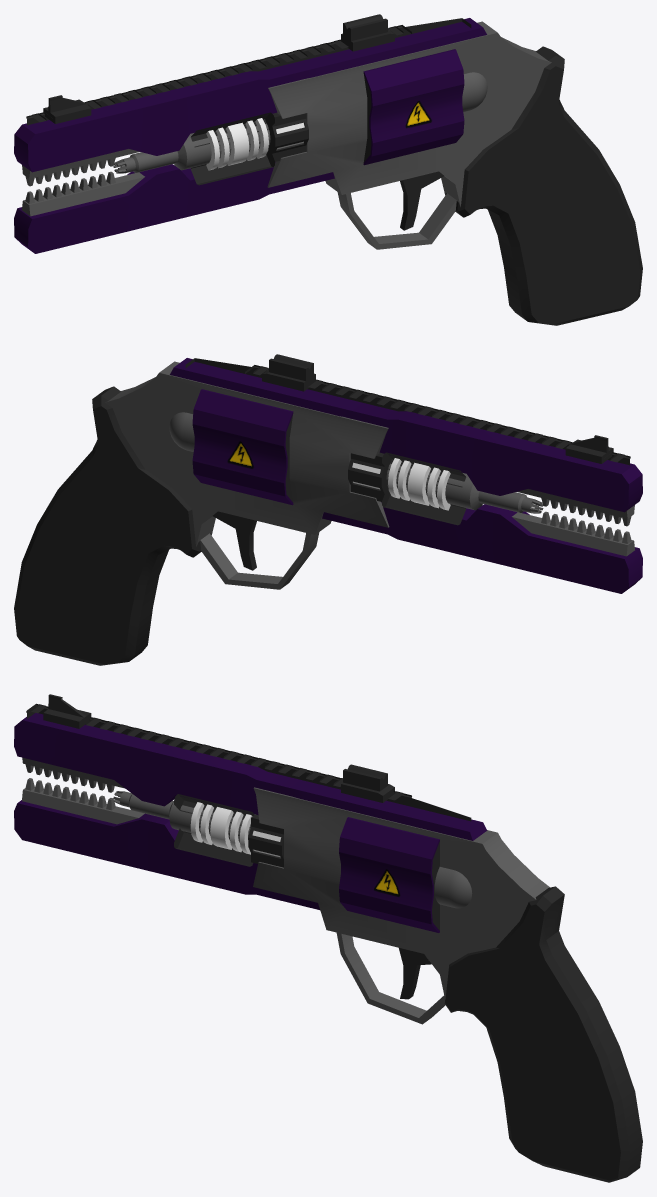
File: revolver.fbx
The picture shows the model from 3 angles, top to bottom: view 1: azimuth 30°, elevation 25°; view 2: azimuth 150°, elevation 25°; view 3: azimuth 330°, elevation 25°; orthographic projection.
Parts seen in each view (by area): view 1: revolver, battery, trigger; view 2: revolver, battery, trigger; view 3: revolver, battery, trigger.
Boxes of the visible parts, <box> form: revolver: <box>14,14,642,325</box>; battery: <box>363,49,464,165</box>; trigger: <box>400,171,443,230</box>; revolver: <box>14,354,642,665</box>; battery: <box>192,389,293,505</box>; trigger: <box>213,511,256,570</box>; revolver: <box>14,694,642,1182</box>; battery: <box>339,817,439,932</box>; trigger: <box>399,948,431,999</box>.
Bounding box in the file's own units: 347 × 186 × 33.13.
